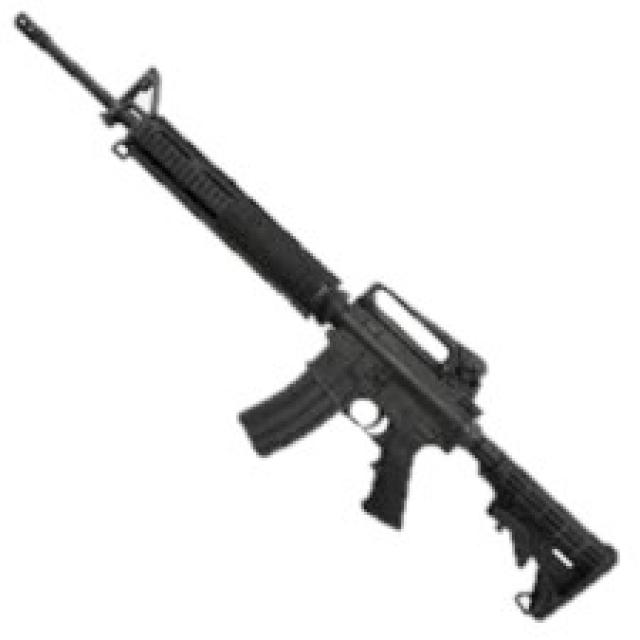rifle: (11, 7, 624, 633)
